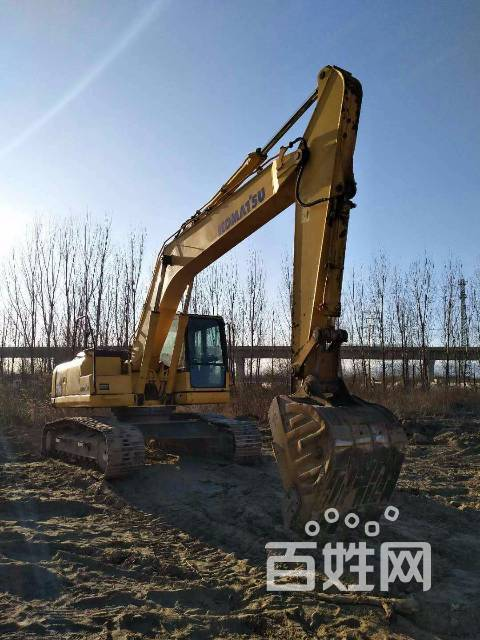excavator: (44, 60, 414, 526)
